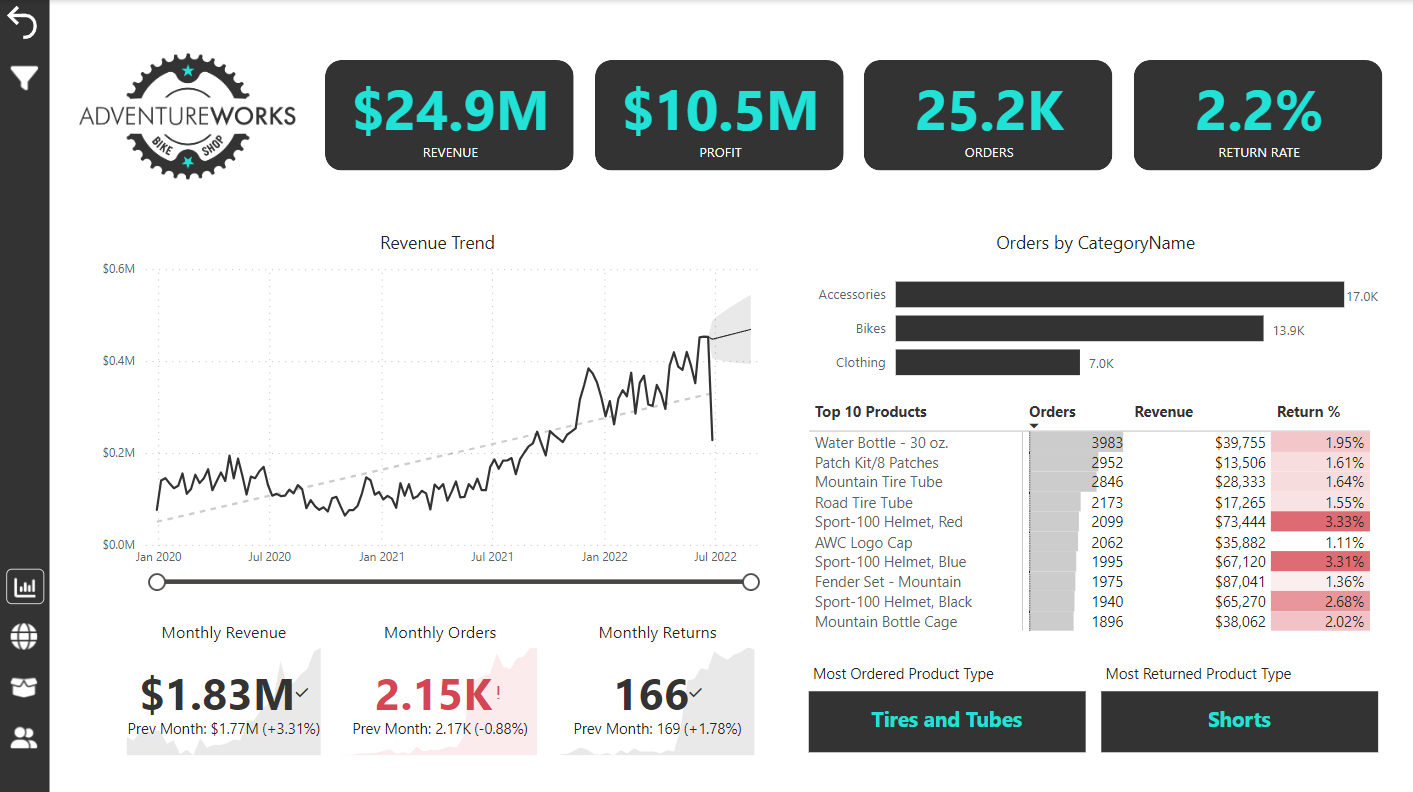

What the dashboard file says about the page in this screenshot:
{"tool":"powerbi","page":{"name":"Main Dashboard","canvas":[1280,720],"ordinal":0},"visuals":[{"type":"card","fields":{"Values":["Measure Table.Total Revenue"]},"box":[282.9,28.9,250,150],"z":0,"group":"g2"},{"type":"image","title":"Main Logo","box":[44.7,36.8,250,135.5],"z":0},{"type":"group","id":"g1","title":"KPI bg Cards","box":[294.7,53.9,956.6,100],"z":0,"group":"g3"},{"type":"shape","box":[294.7,53.9,225,100],"z":0,"group":"g1"},{"type":"actionButton","box":[6.2,514.8,34.3,32],"z":0,"group":"g4"},{"type":"shape","title":"Left Menu","box":[0,0,45,720],"z":1000},{"type":"group","id":"g2","title":"KPI Values","box":[282.9,28.9,981.6,150],"z":1000,"group":"g3"},{"type":"card","fields":{"Values":["Measure Table.Total Profit"]},"box":[526.8,28.9,250,150],"z":1000,"group":"g2"},{"type":"shape","box":[538.6,53.9,225,100],"z":1000,"group":"g1"},{"type":"actionButton","box":[6.2,652.1,34.3,32],"z":1000,"group":"g4"},{"type":"group","id":"g3","title":"KPI","box":[282.9,28.9,981.6,150],"z":2000},{"type":"card","fields":{"Values":["Measure Table.Total Orders"]},"box":[770.6,28.9,250,150],"z":2000,"group":"g2"},{"type":"shape","box":[782.4,53.9,225,100],"z":2000,"group":"g1"},{"type":"actionButton","box":[6.2,560.6,34.3,32],"z":2000,"group":"g4"},{"type":"card","fields":{"Values":["Measure Table.Return Rate"]},"box":[1014.5,28.9,250,150],"z":3000,"group":"g2"},{"type":"shape","box":[1026.3,53.9,225,100],"z":3000,"group":"g1"},{"type":"lineChart","title":"Revenue Trend","fields":{"Category":["Calendar Lookup.Year","Calendar Lookup.Start of Quarter","Calendar Lookup.Start of Month","Calendar Lookup.Start of Week"],"Y":["Measure Table.Total Revenue"]},"box":[86.8,207.9,617.1,328.9],"z":3000},{"type":"actionButton","box":[6.2,606.3,34.3,32],"z":3000,"group":"g4"},{"type":"kpi","title":"Monthly Revenue","fields":{"Indicator":["Measure Table.Total Revenue"],"TrendLine":["Calendar Lookup.Start of Month"],"Goal":["Measure Table.Previous Month Revenue"]},"box":[109.2,560.5,185.5,127.6],"z":4000},{"type":"kpi","title":"Monthly Returns","fields":{"TrendLine":["Calendar Lookup.Start of Month"],"Indicator":["Measure Table.Total Returns"],"Goal":["Measure Table.Previous Month Returns"]},"box":[501.3,560.5,185.5,127.6],"z":5000},{"type":"kpi","title":"Monthly Orders","fields":{"TrendLine":["Calendar Lookup.Start of Month"],"Indicator":["Measure Table.Total Orders"],"Goal":["Measure Table.Previous Month Orders"]},"box":[305.3,560.5,185.5,127.6],"z":6000},{"type":"clusteredBarChart","title":"Orders by CategoryName","fields":{"Category":["Product Categories Lookup.CategoryName"],"Y":["Measure Table.Total Orders"]},"box":[730.3,207.9,521.1,150],"z":7000},{"type":"pivotTable","fields":{"Rows":["Product Lookup.ProductName"],"Values":["Measure Table.Total Orders","Measure Table.Total Revenue","Measure Table.Return Rate"]},"box":[726.3,357.9,525,236.8],"z":8000},{"type":"card","title":"Most Ordered Product Type","fields":{"Values":["Min(Product Subcategories Lookup.SubcategoryName)"]},"box":[730.8,624.7,250,55],"z":9000},{"type":"textbox","box":[730.3,595,269.7,36.8],"z":10000},{"type":"card","title":"Most Ordered Product Type","fields":{"Values":["Min(Product Subcategories Lookup.SubcategoryName)"]},"box":[995.3,624.7,250,55],"z":11000},{"type":"textbox","box":[994.7,595.1,269.7,36.8],"z":12000},{"type":"actionButton","box":[0,0,45,40.2],"z":13000},{"type":"group","id":"g4","title":"Nav Buttons","box":[6.2,514.8,34.3,169.2],"z":14000},{"type":"actionButton","box":[5.7,54.3,39.6,32.8],"z":16000}]}

Visuals, with their boxes on the page's 1280x720 design canvas (x1, y1, x2, y2). These are canvas units, not pixel positions in the 1413x792 screenshot, which may show the page scaled, cropped or inside an application window:
card - Measure Table.Total Revenue: BBox(283, 29, 533, 179)
"Main Logo" image: BBox(45, 37, 295, 172)
"KPI bg Cards" group: BBox(295, 54, 1251, 154)
shape: BBox(295, 54, 520, 154)
actionButton: BBox(6, 515, 40, 547)
"Left Menu" shape: BBox(0, 0, 45, 720)
"KPI Values" group: BBox(283, 29, 1264, 179)
card - Measure Table.Total Profit: BBox(527, 29, 777, 179)
shape: BBox(539, 54, 764, 154)
actionButton: BBox(6, 652, 40, 684)
"KPI" group: BBox(283, 29, 1264, 179)
card - Measure Table.Total Orders: BBox(771, 29, 1021, 179)
shape: BBox(782, 54, 1007, 154)
actionButton: BBox(6, 561, 40, 593)
card - Measure Table.Return Rate: BBox(1014, 29, 1264, 179)
shape: BBox(1026, 54, 1251, 154)
"Revenue Trend" lineChart: BBox(87, 208, 704, 537)
actionButton: BBox(6, 606, 40, 638)
"Monthly Revenue" kpi: BBox(109, 560, 295, 688)
"Monthly Returns" kpi: BBox(501, 560, 687, 688)
"Monthly Orders" kpi: BBox(305, 560, 491, 688)
"Orders by CategoryName" clusteredBarChart: BBox(730, 208, 1251, 358)
pivotTable - Product Lookup.ProductName x Measure Table.Total Orders: BBox(726, 358, 1251, 595)
"Most Ordered Product Type" card: BBox(731, 625, 981, 680)
textbox: BBox(730, 595, 1000, 632)
"Most Ordered Product Type" card: BBox(995, 625, 1245, 680)
textbox: BBox(995, 595, 1264, 632)
actionButton: BBox(0, 0, 45, 40)
"Nav Buttons" group: BBox(6, 515, 40, 684)
actionButton: BBox(6, 54, 45, 87)
